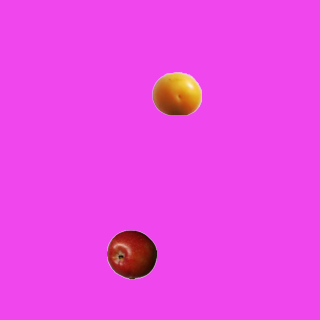Apple Braeburn: (106, 229, 156, 279)
Cherry Wax Yellow: (151, 68, 201, 118)
